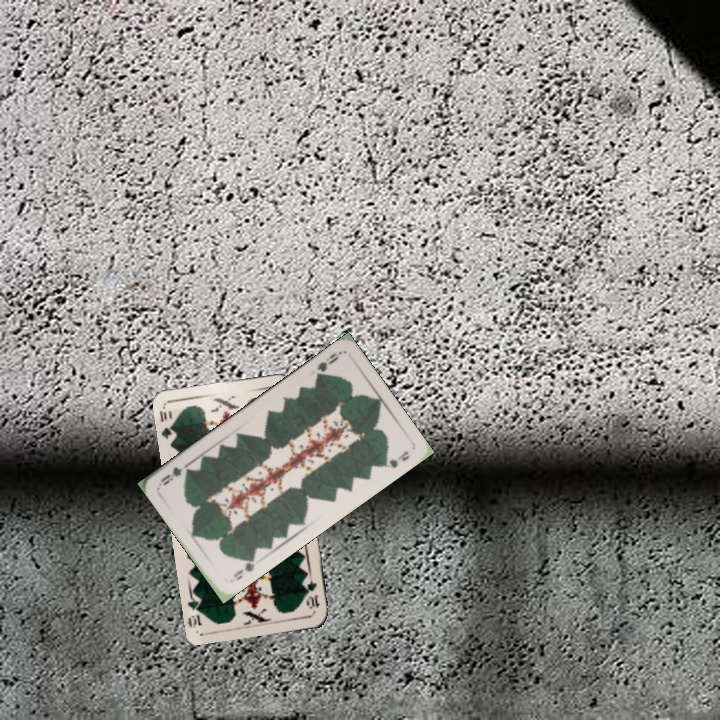G10: (156, 403, 179, 443), (302, 573, 322, 612)
G9: (312, 348, 344, 381), (226, 552, 257, 585)
